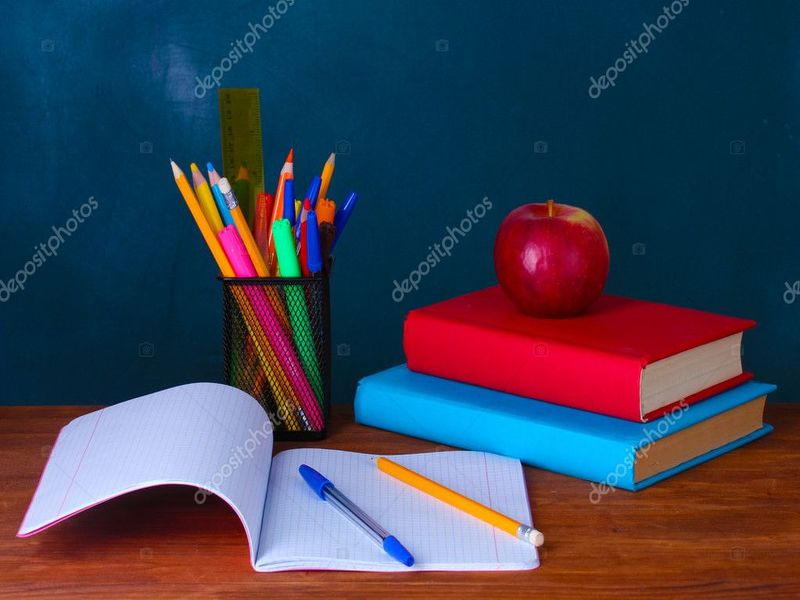apple: (498, 194, 613, 320)
